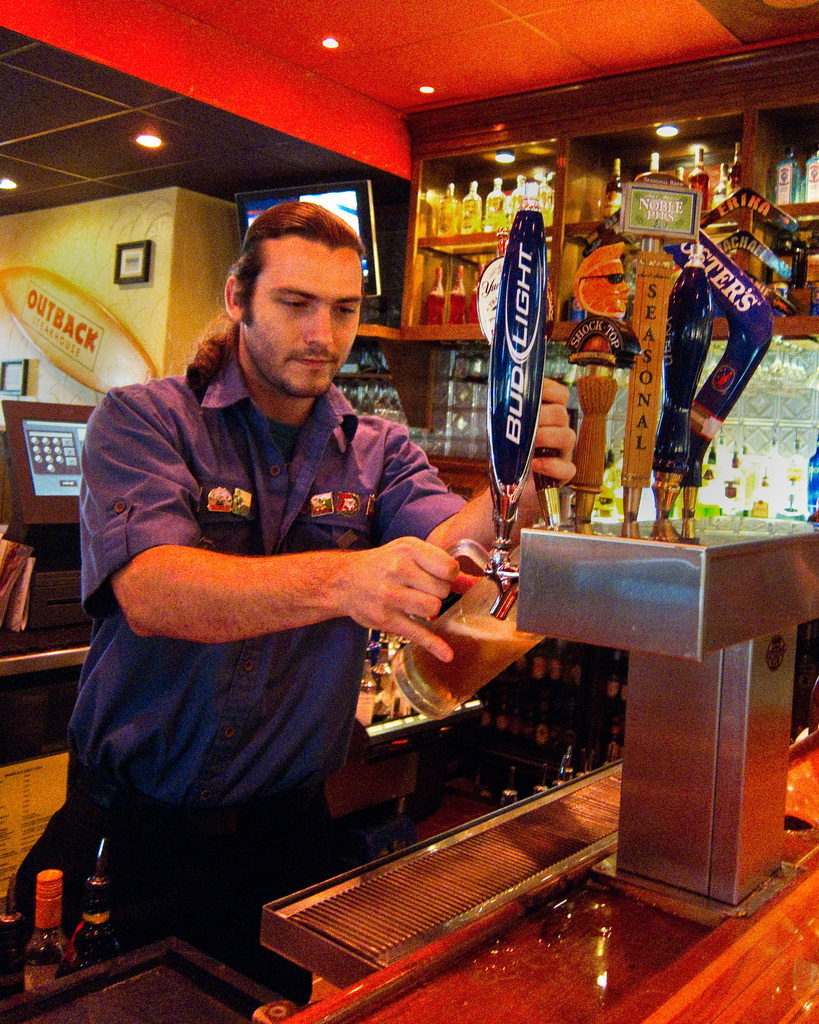Beer: (392, 614, 545, 720)
